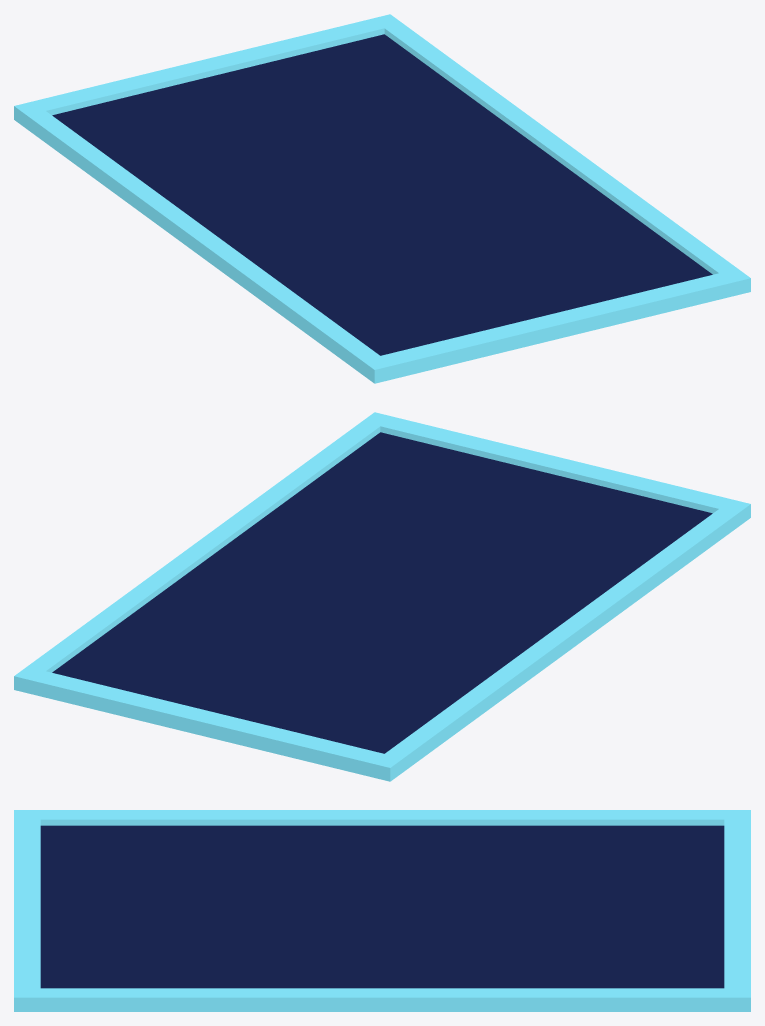
The model's file is gap.glb.
3 views of the same model, one above another, from view 1: azimuth 30°, elevation 25°; view 2: azimuth 150°, elevation 25°; view 3: azimuth 270°, elevation 25° (orthographic). The views are drawn at different scales.
Visible parts, largest first — view 1: cosmic gap; view 2: cosmic gap; view 3: cosmic gap.
Part boxes in pixels (left/top/right/bottom): cosmic gap: left=14, top=14, right=750, bottom=383; cosmic gap: left=14, top=412, right=750, bottom=781; cosmic gap: left=14, top=810, right=750, bottom=1011.
Size of the model in its own units: 2 by 0.08 by 3.32.
